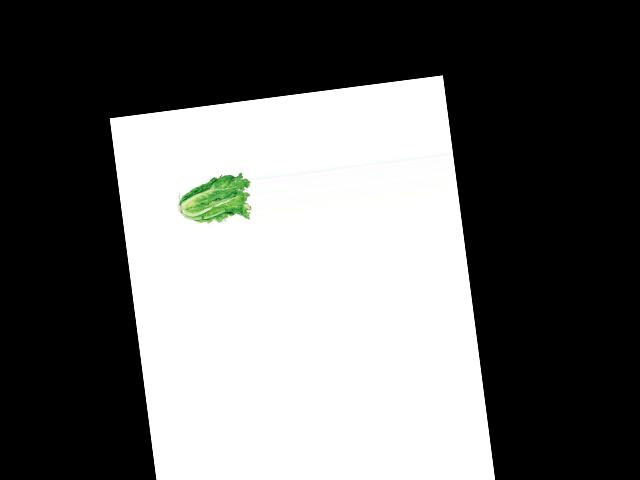lettuce: (176, 171, 255, 229)
